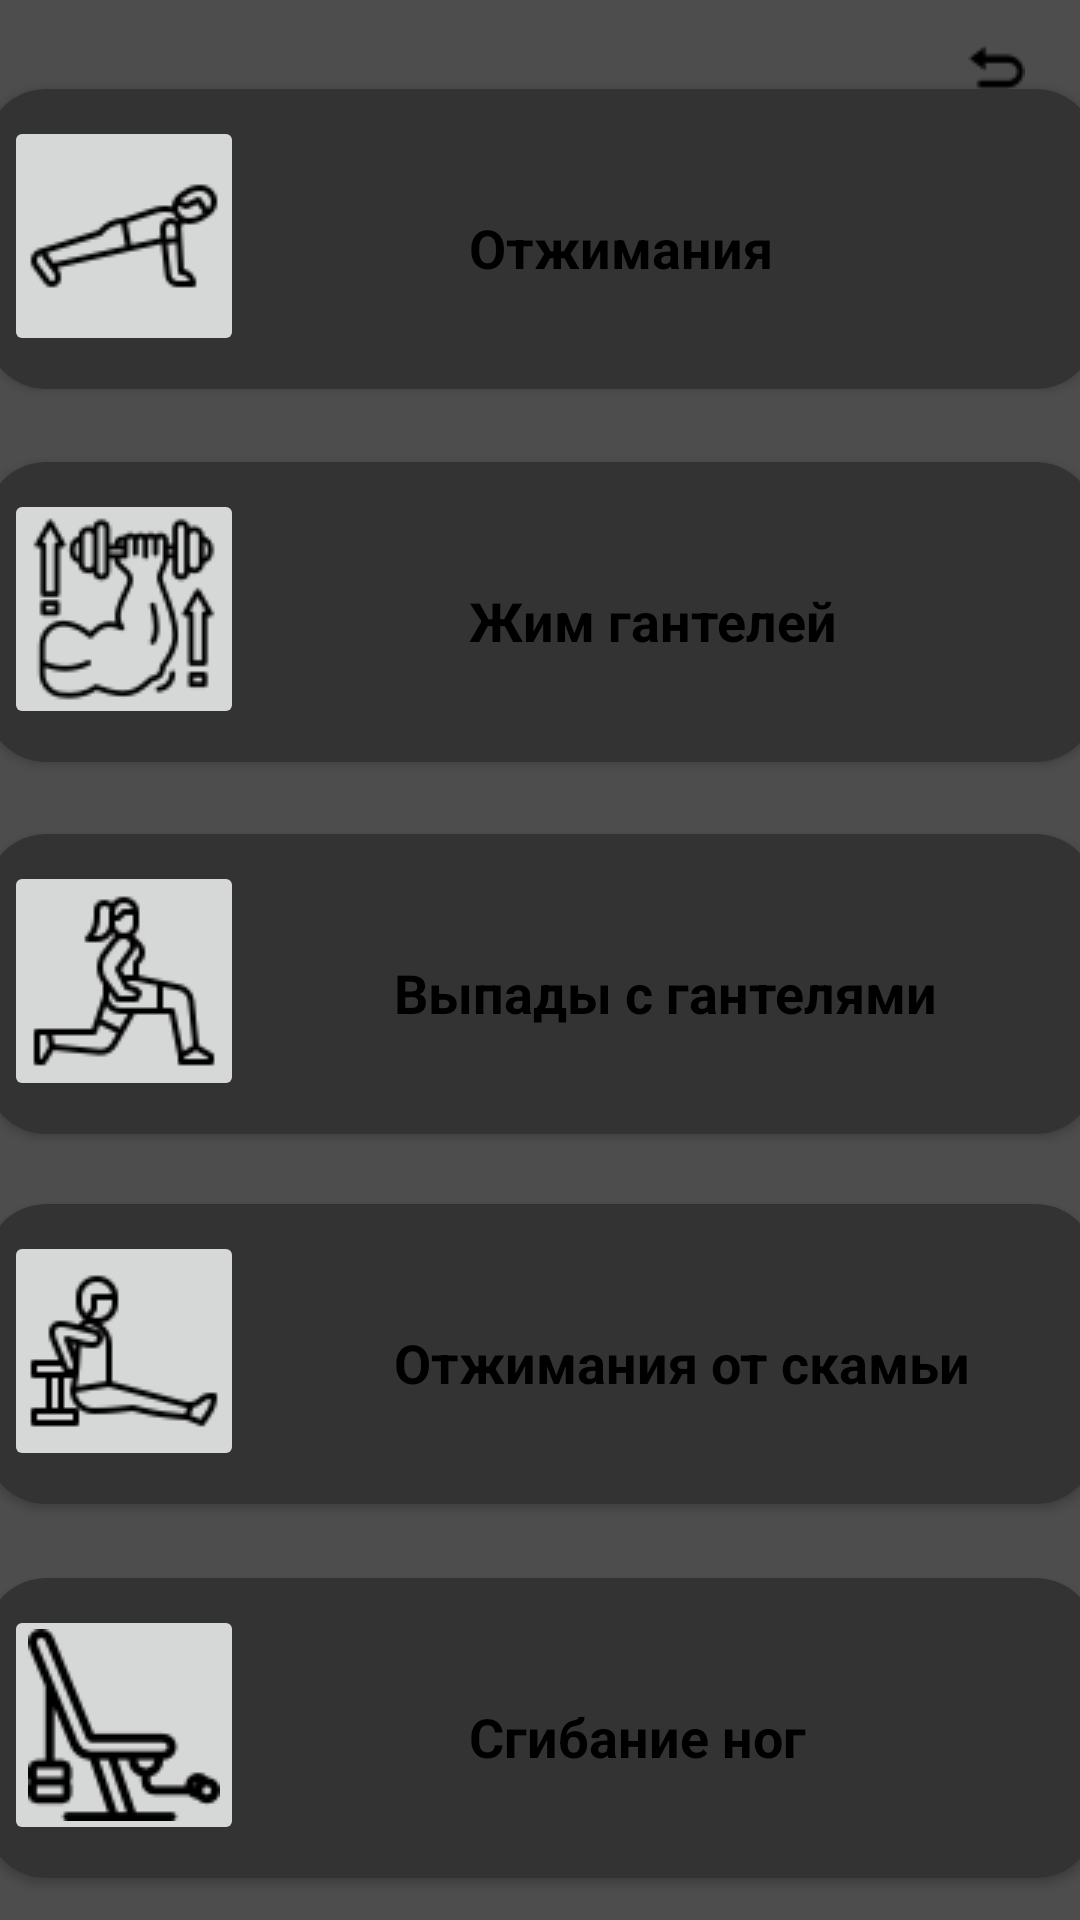

Icon click points for this 1080 x 1920 phone screenshot, format point (x, y):
sgibanienog: point (124, 1725)
up ganteli: point (124, 609)
vipadi: point (124, 981)
